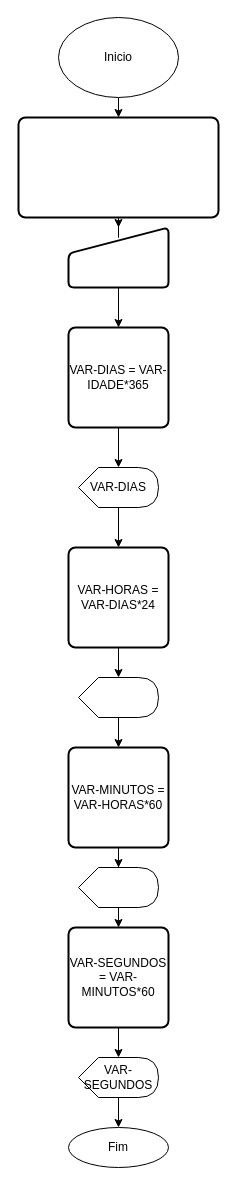
This 236x1185 diagram has some shape labels left out. The centre of each missing label's shape, as x and y in pixels:
"IDADE" belongs at point 118,257.
"VAR-HORAS" belongs at point 118,697.
"VAR-IDADE VAR-DIAS VAR-HORAS VAR-MINUTOS VAR-SEGUNDOS" belongs at point 118,167.
"VAR-MINUTOS" belongs at point 118,887.
